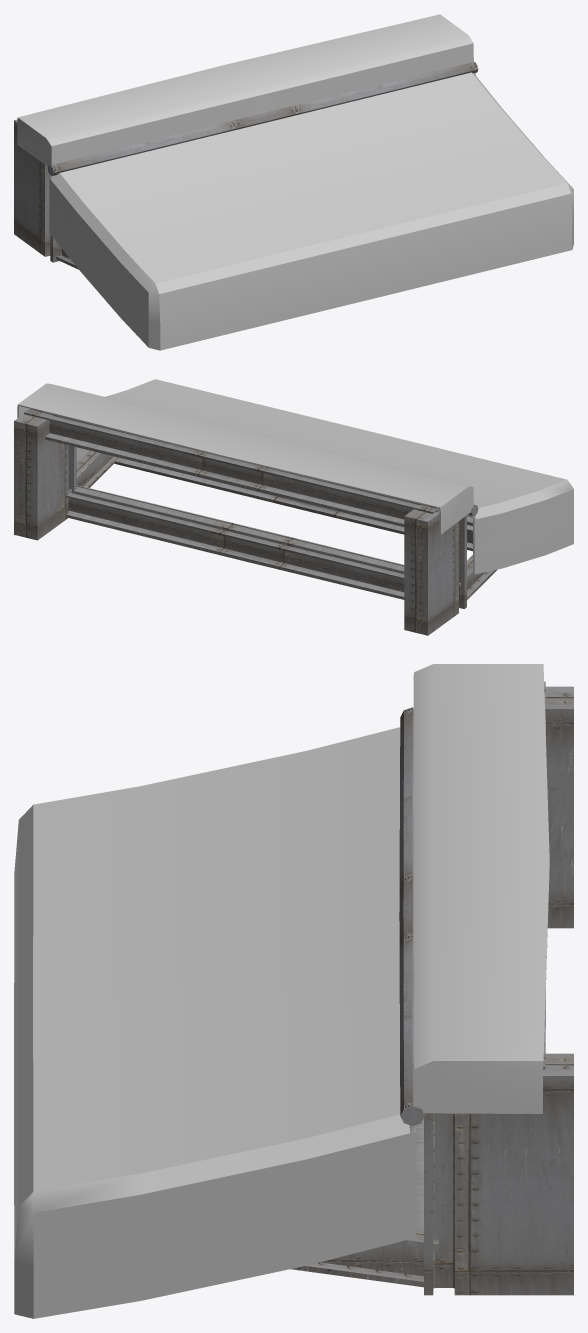
Rendered from CT_Awning_05.fbx.
The picture shows the model from 3 angles, top to bottom: view 1: azimuth 30°, elevation 25°; view 2: azimuth 150°, elevation 25°; view 3: azimuth 270°, elevation 25°; orthographic projection. The views are drawn at different scales.
Parts seen in each view (by area): view 1: CT_Awning_05; view 2: CT_Awning_05; view 3: CT_Awning_05.
Boxes of the visible parts, box(x1,y1,x2,y2) form: CT_Awning_05: box(14, 14, 573, 350); CT_Awning_05: box(14, 379, 573, 635); CT_Awning_05: box(14, 664, 573, 1318).
Bounding box in the file's own units: 254 × 76.76 × 151.
